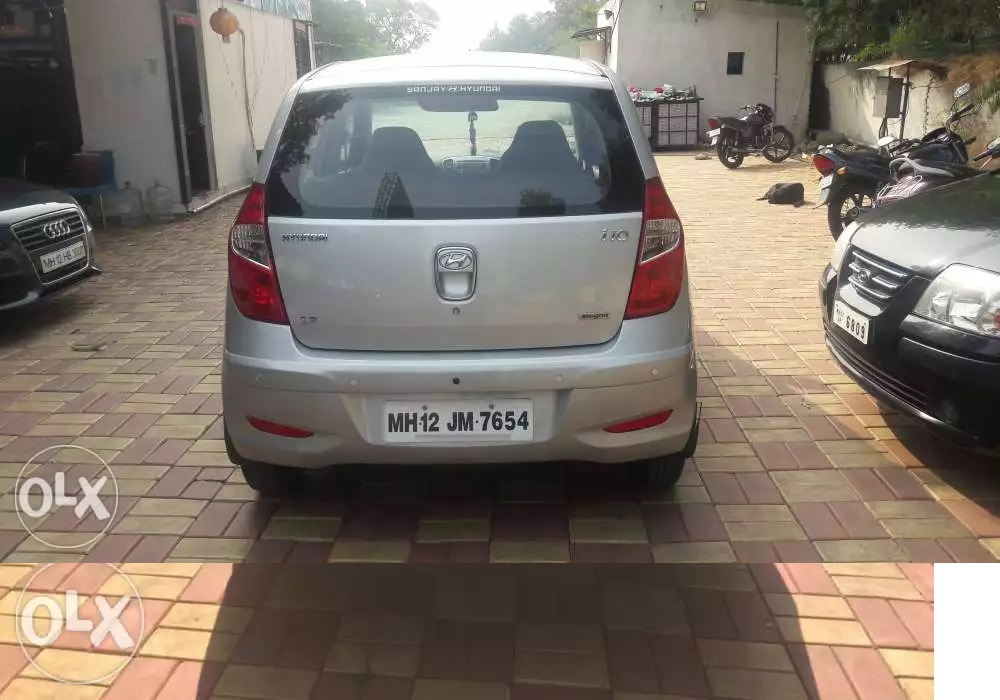licenseplate: (380, 394, 533, 443)
